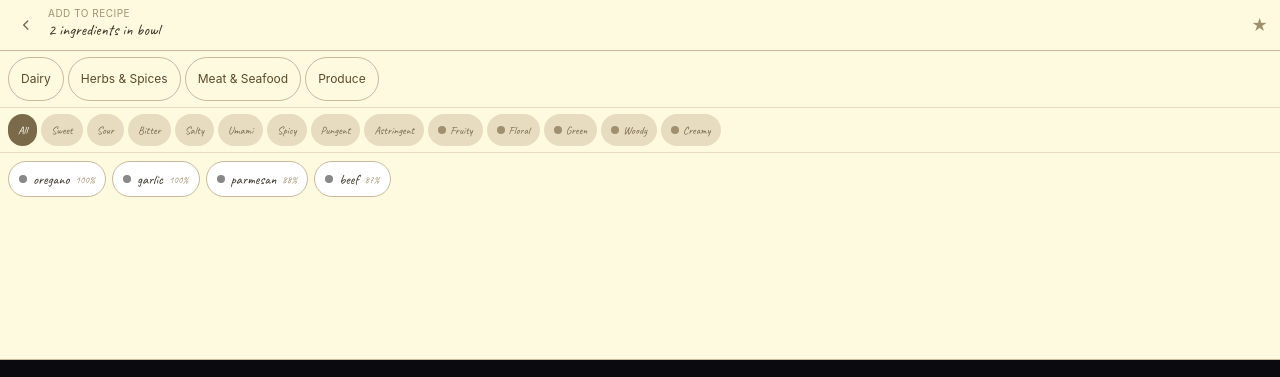
Scenario: IngredientSuggestionsPopout — RL-CATEGORY-FILTER (§14 food-category pills) › filter runs AFTER ranking — score order preserved within the narrowed set
The width and height of the screenshot is (1280, 377).
Step 1. Click the button with test id "category-pill-Herbs & Spices" → (124, 79), box [68, 57, 181, 101]
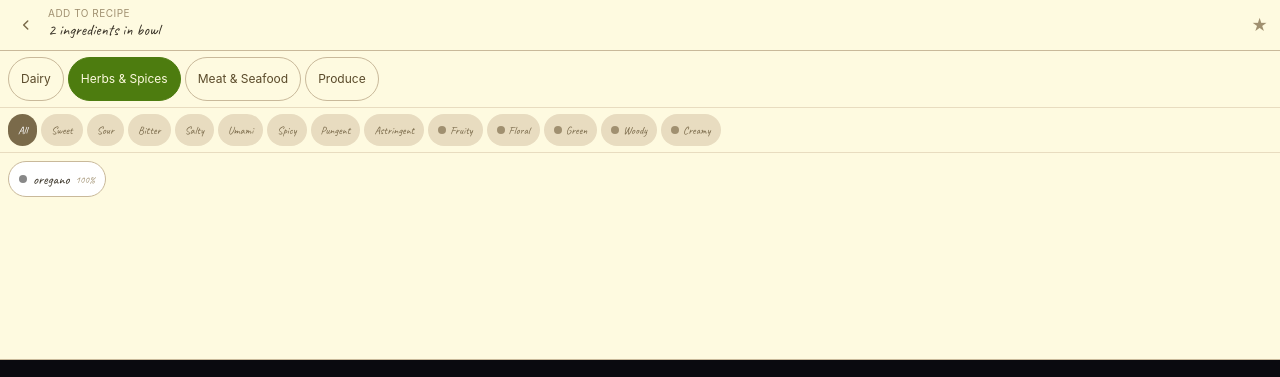
Expected: the text "oregano" is shown, [33, 168, 70, 190]
Expected: the text "garlic" is gone
Expected: the text "beef" is gone
